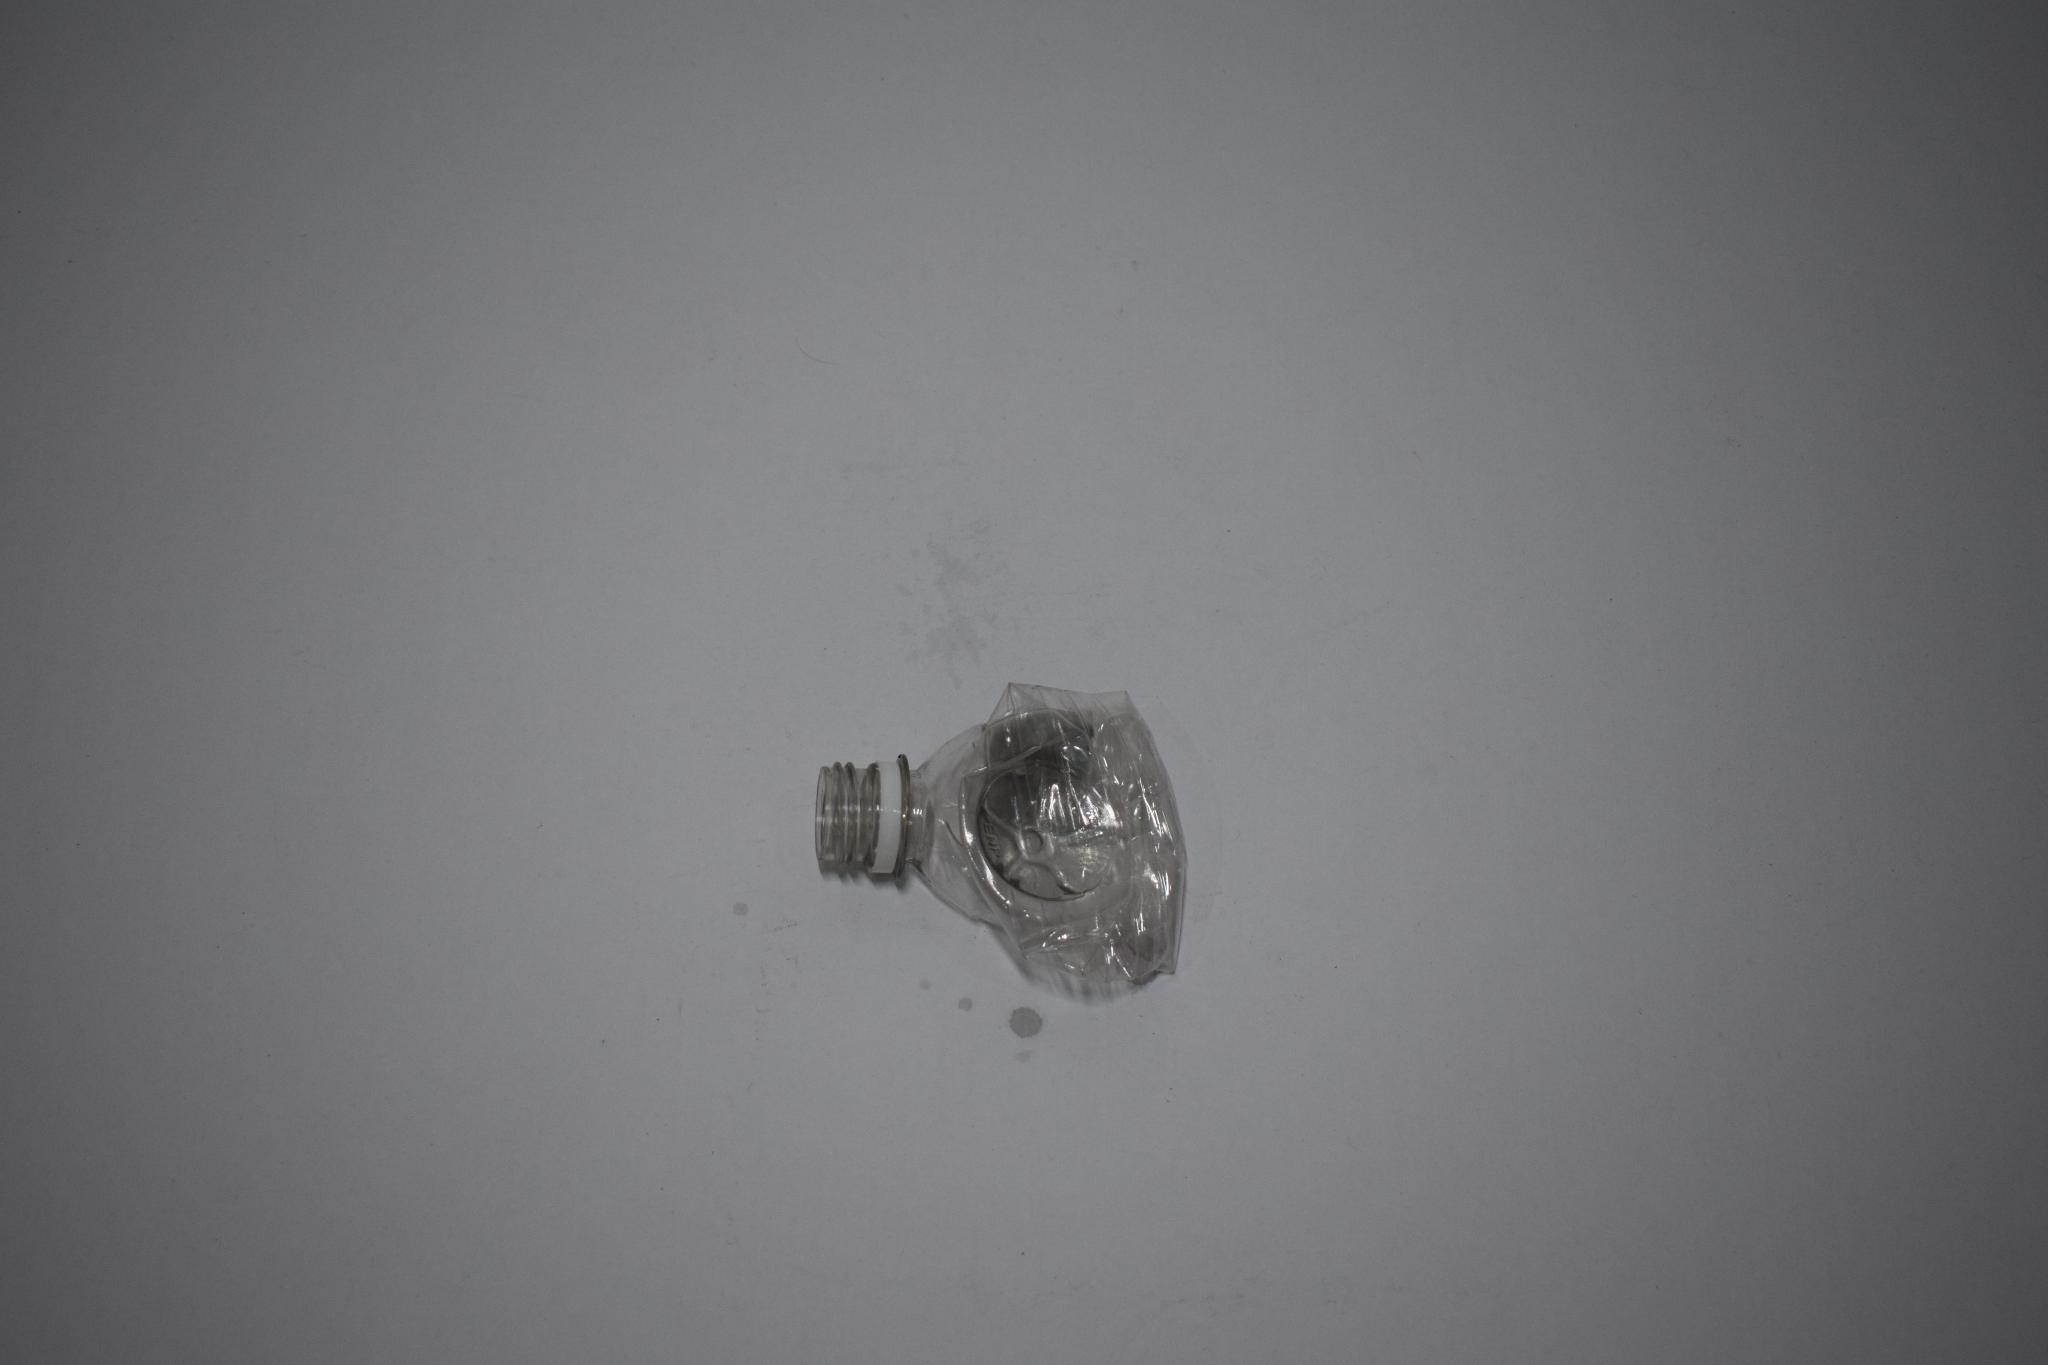bottle: (804, 696, 1189, 969)
